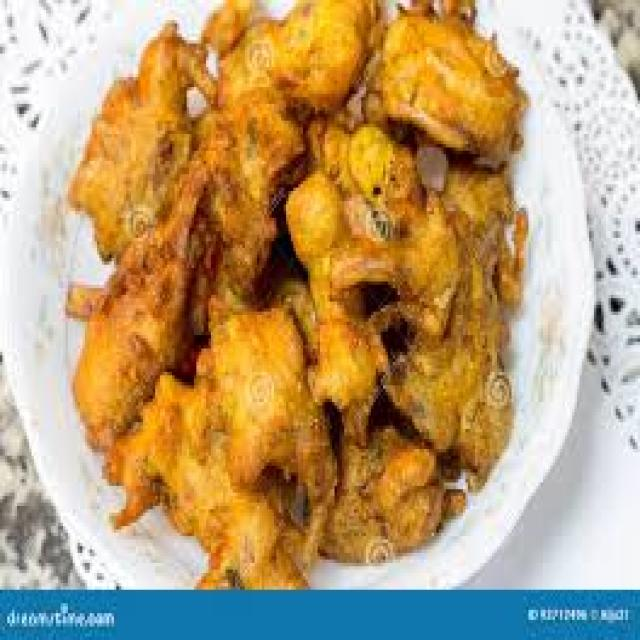BAJI: (66, 0, 542, 606)
